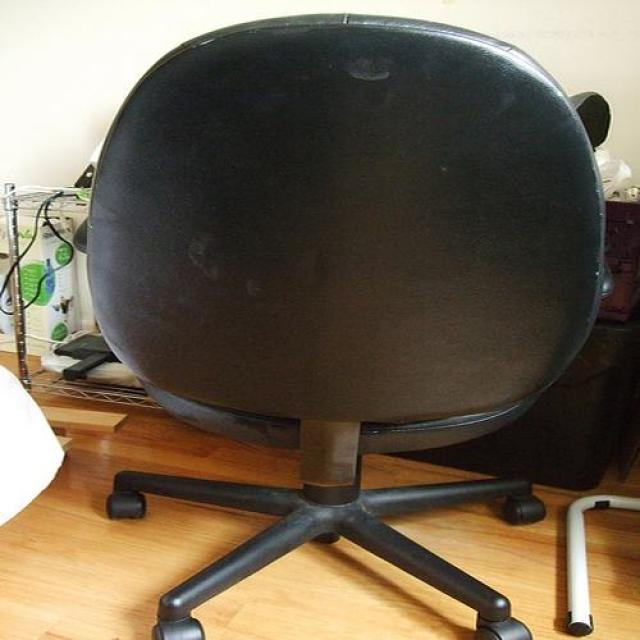swivelchair: (86, 14, 608, 640)
